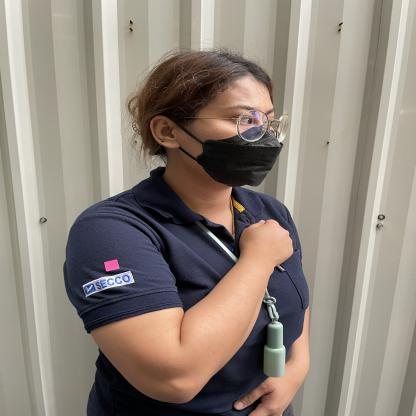Sadness: (72, 216, 315, 405)
